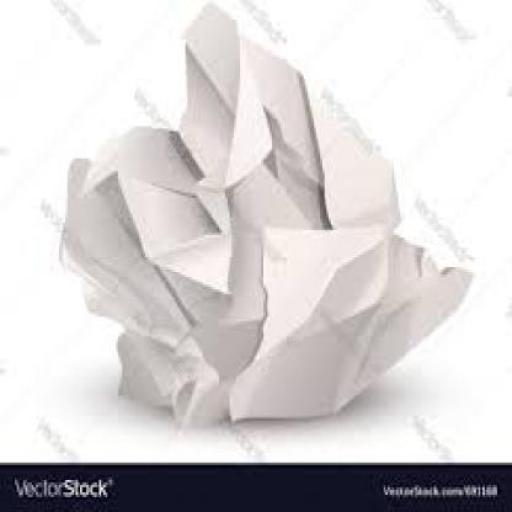paper: (56, 0, 473, 423)
